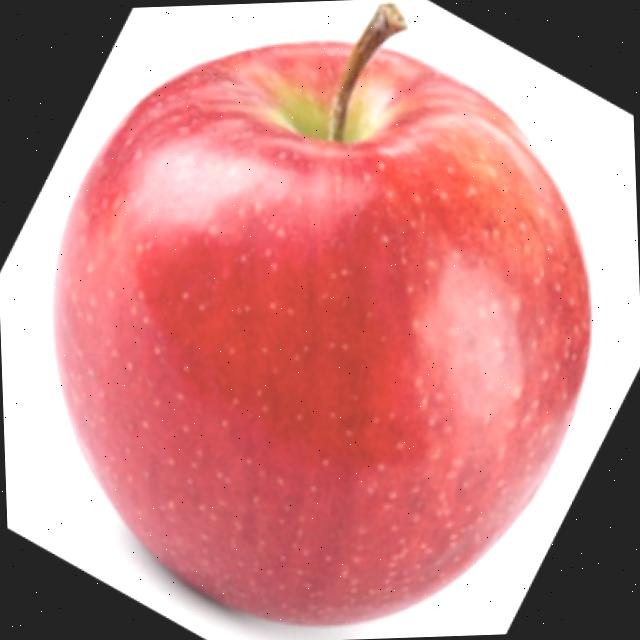Ripe: (34, 17, 616, 640)
